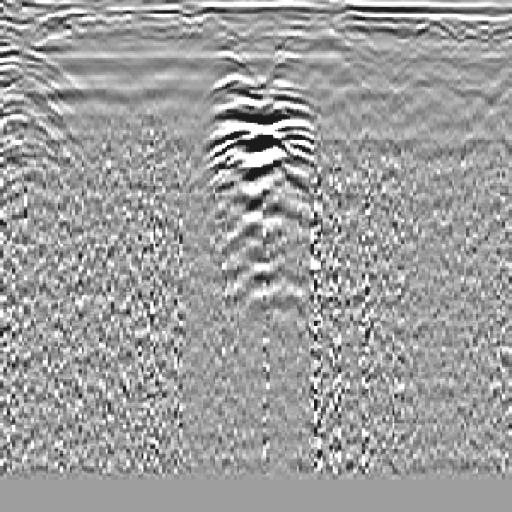metalic: (199, 72, 328, 277)
